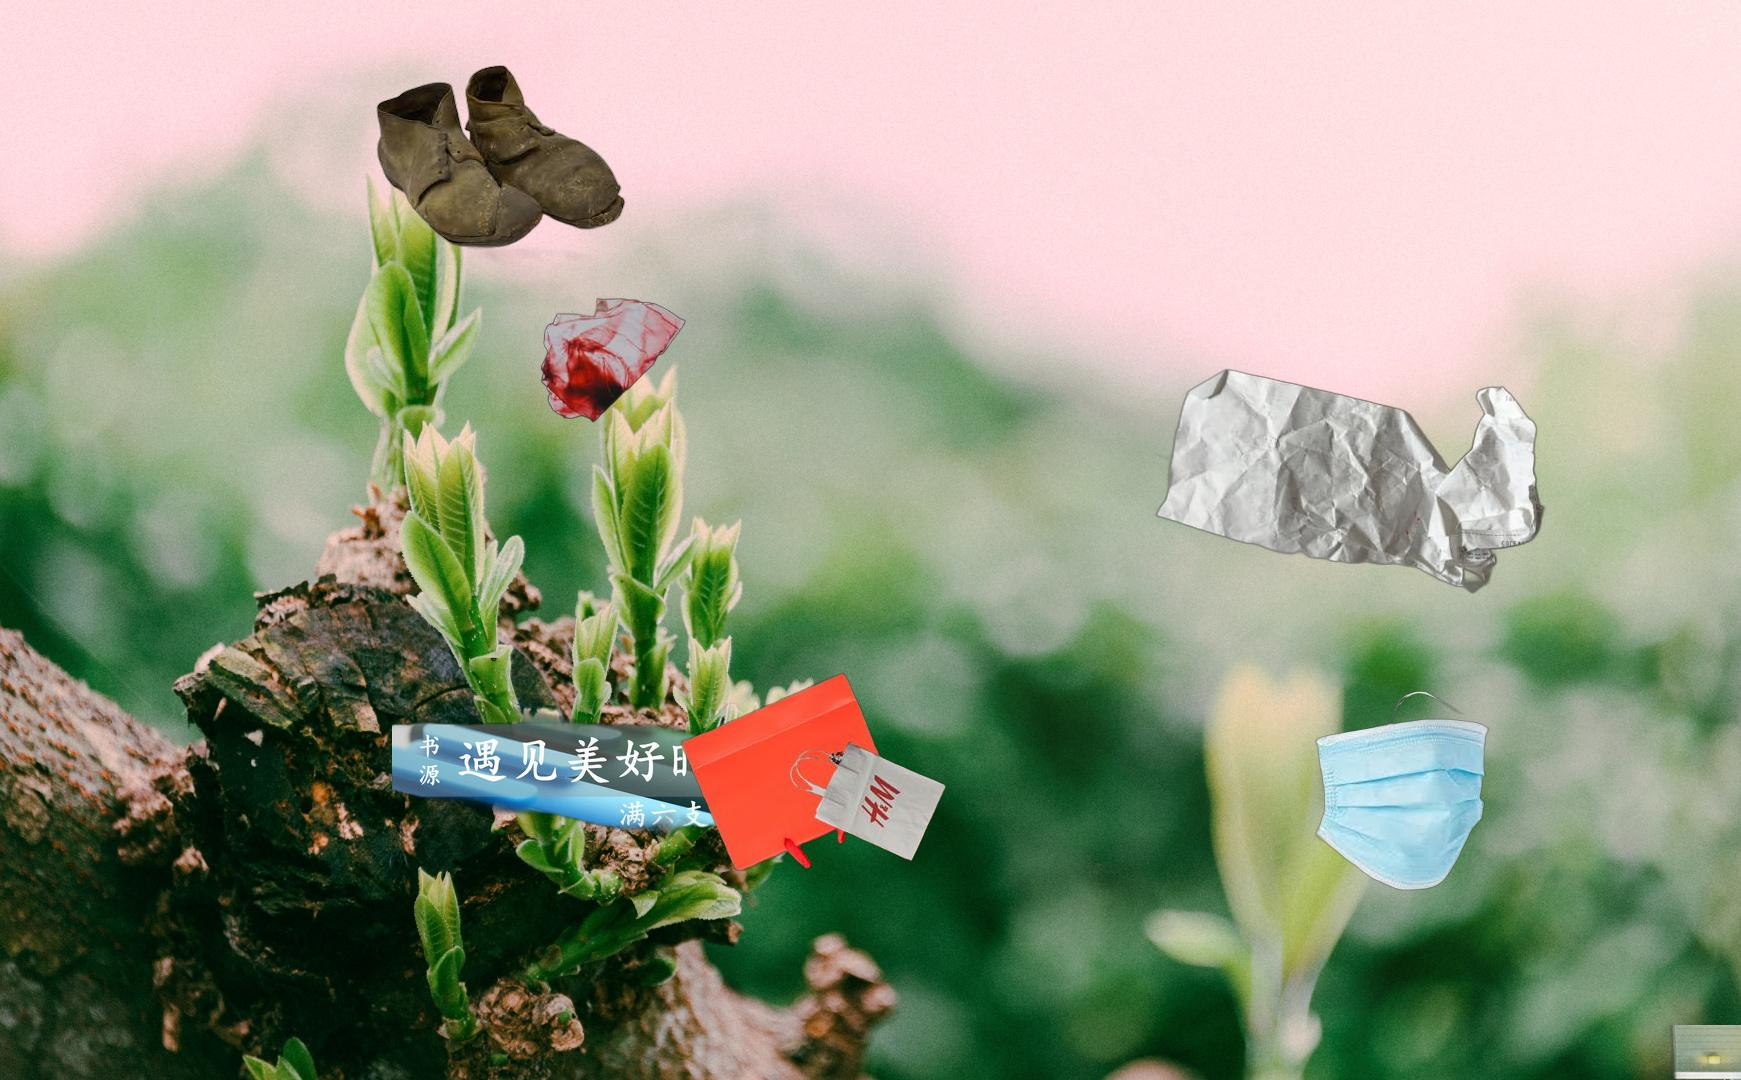paper: (1149, 368, 1548, 596)
paper-bag: (678, 669, 949, 873)
penholder: (392, 691, 792, 845), (1405, 1025, 1741, 1080)
plastic-bag: (439, 231, 688, 423)
shoes: (374, 63, 627, 253)
trash: (1313, 689, 1492, 892)
